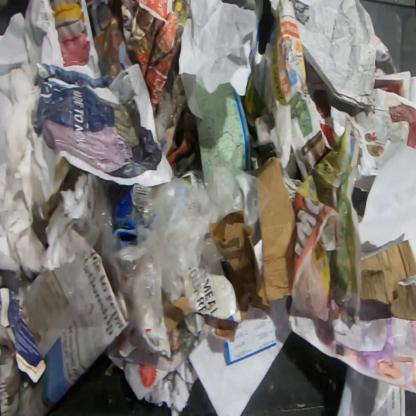cardboard: (162, 211, 270, 332), (255, 155, 296, 308), (360, 239, 416, 322), (102, 179, 138, 244)
soft_plastic: (74, 165, 270, 333), (154, 65, 184, 148)
